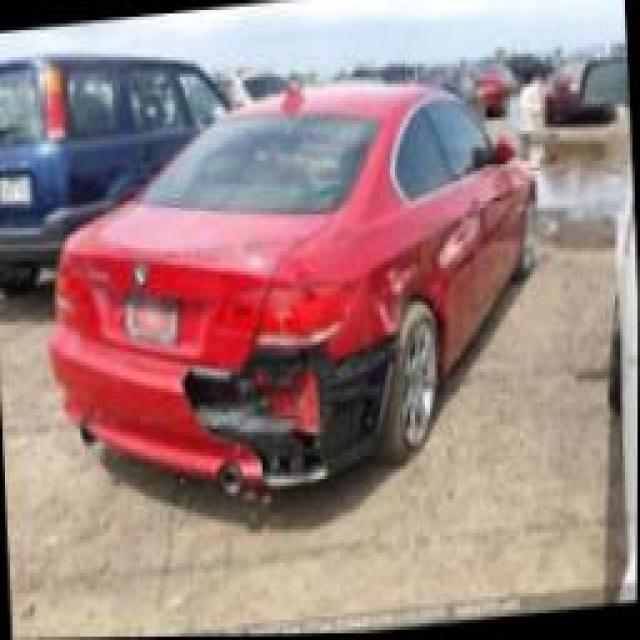Bumper: (185, 329, 404, 487)
